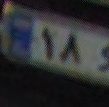character: (57, 27, 85, 68), (39, 24, 56, 66)
